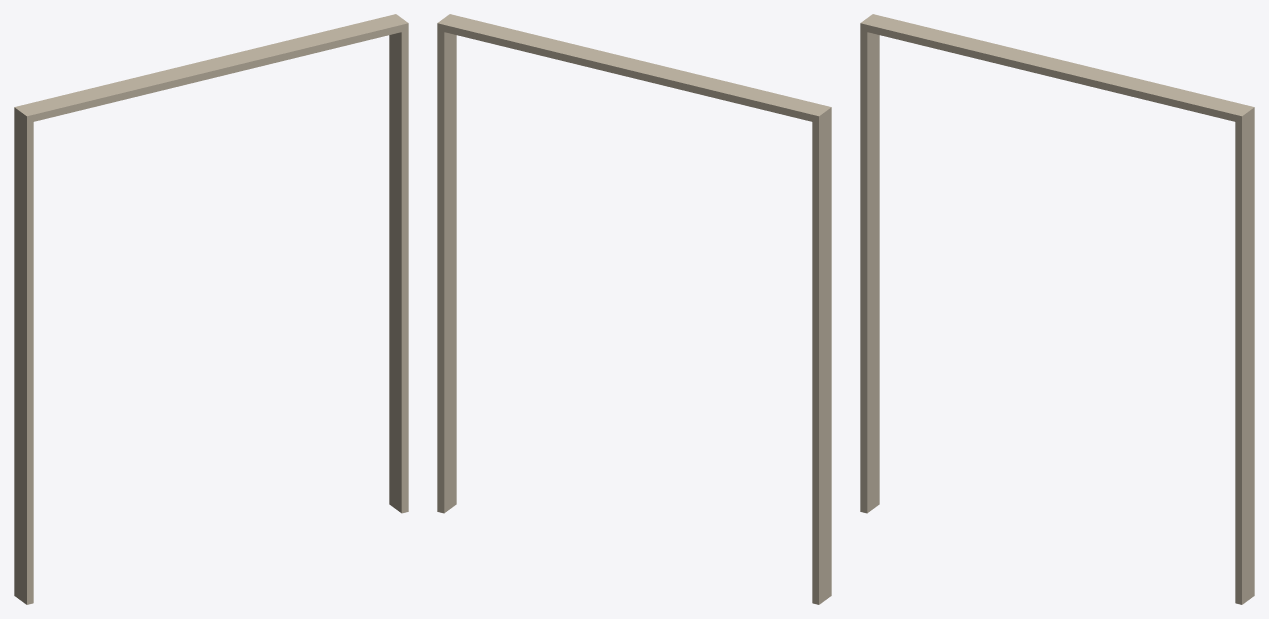
3 renders of one model, left to right at view 1: azimuth 30°, elevation 25°; view 2: azimuth 150°, elevation 25°; view 3: azimuth 330°, elevation 25°, orthographic.
Visible parts, largest first — view 1: Arrival Painting Portal; view 2: Arrival Painting Portal; view 3: Arrival Painting Portal.
Part boxes in pixels (x1,y1,x2,y2): Arrival Painting Portal: (14, 14, 408, 604); Arrival Painting Portal: (437, 14, 831, 604); Arrival Painting Portal: (860, 14, 1254, 604).
Bounding box in the file's own units: 2.49 × 3.05 × 0.142.
